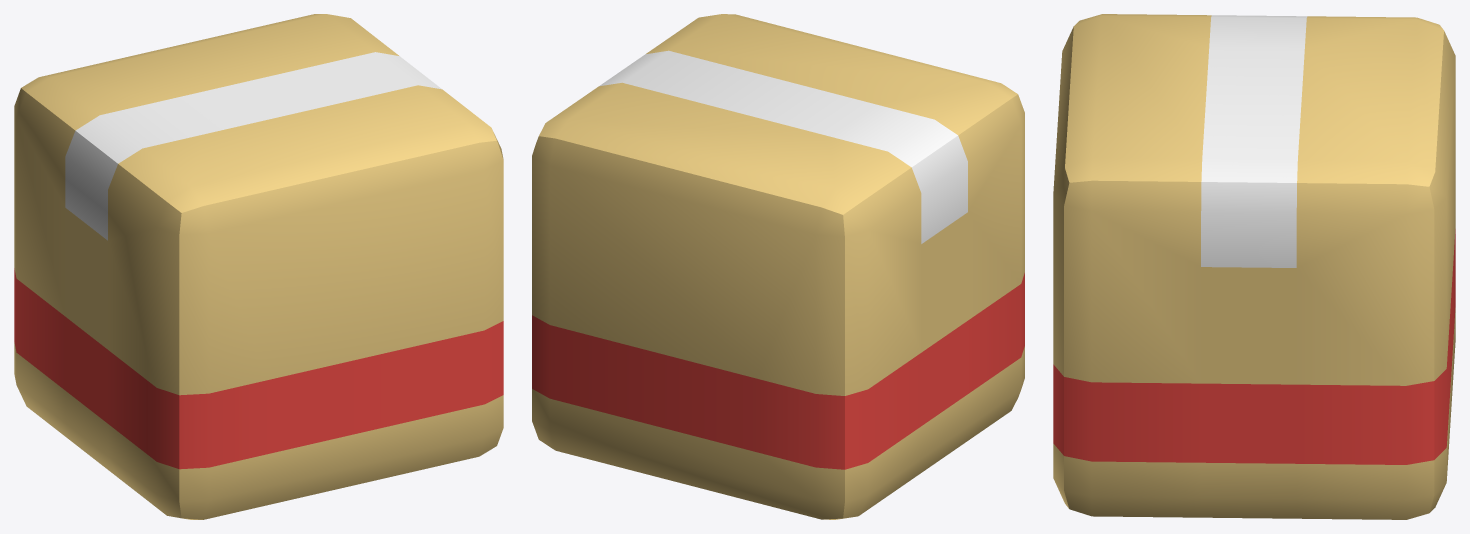
Rendered from Props_Box_Red_01.fbx.
3 views of the same model, side by side, from view 1: azimuth 30°, elevation 25°; view 2: azimuth 150°, elevation 25°; view 3: azimuth 270°, elevation 25° (orthographic). The views are drawn at different scales.
Visible parts, largest first — view 1: Props_Box_Red_01; view 2: Props_Box_Red_01; view 3: Props_Box_Red_01.
Boxes of the visible parts, left/top/right/bottom form: Props_Box_Red_01: left=14, top=14, right=503, bottom=519; Props_Box_Red_01: left=532, top=14, right=1024, bottom=519; Props_Box_Red_01: left=1053, top=14, right=1455, bottom=519.
Bounding box in the file's own units: 56.84 × 52.32 × 53.48.
